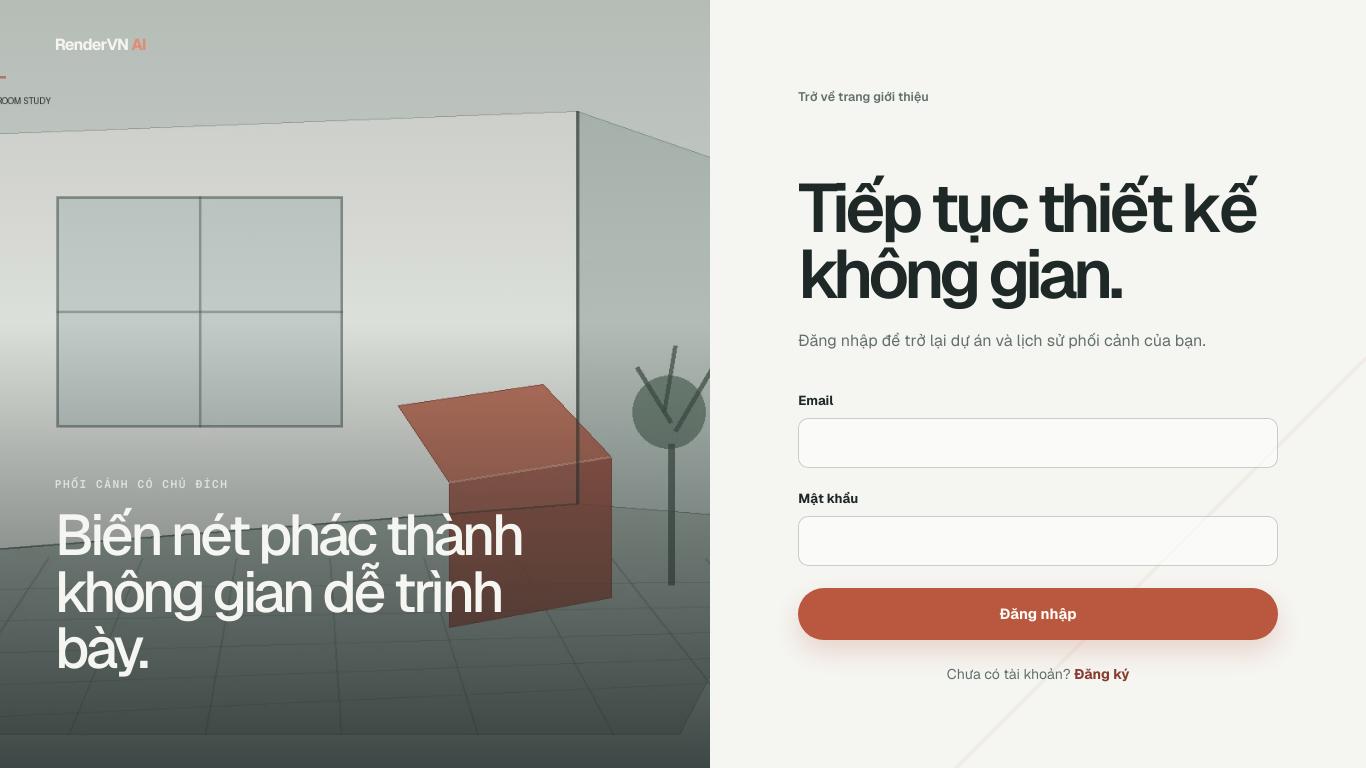
Test case: AuthForm › requires email and password before login
What coordinates should you click on to do the following:
click the button "Đăng nhập"
I would click on:
 (1038, 614)
Its box is [798,588,1278,640].
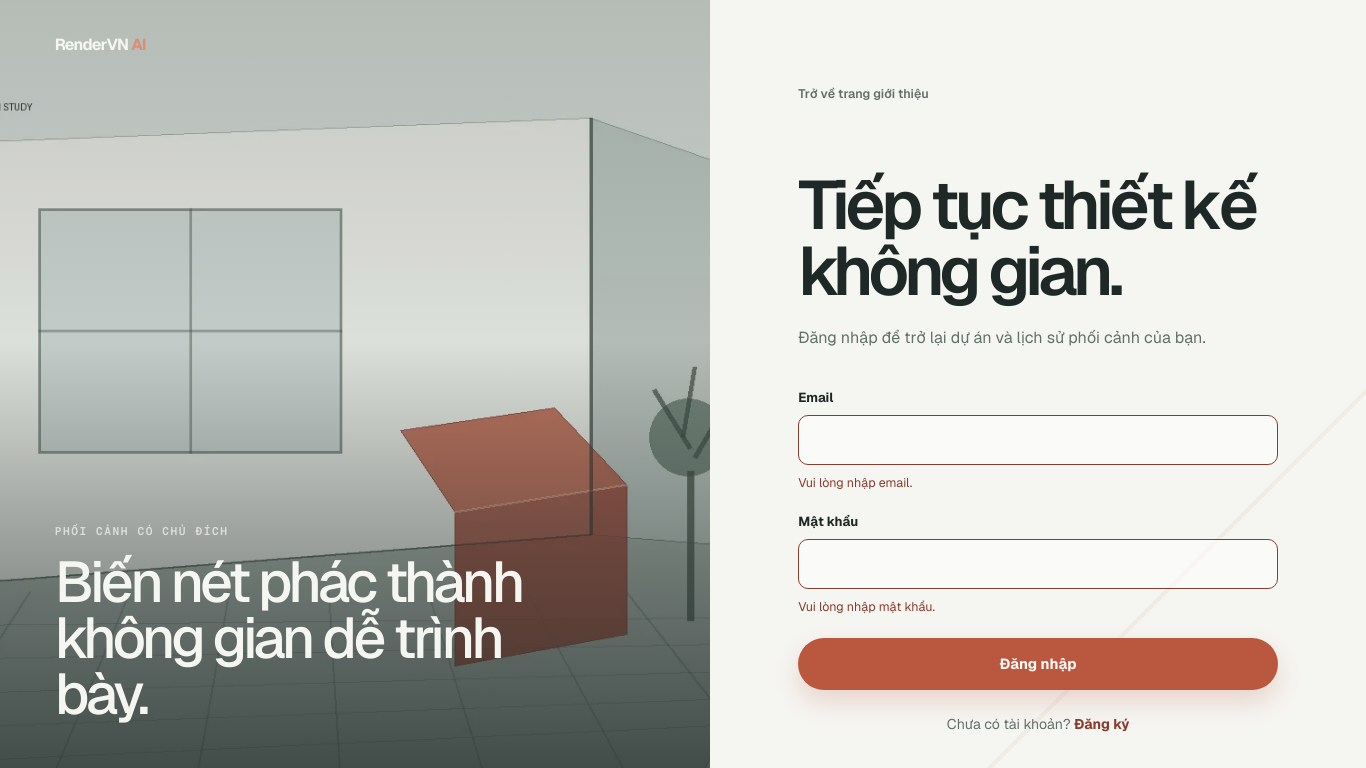
Expected: the text "Vui lòng nhập email." is shown, [798,474,912,491]
Expected: the text "Vui lòng nhập mật khẩu." is shown, [798,598,935,615]
